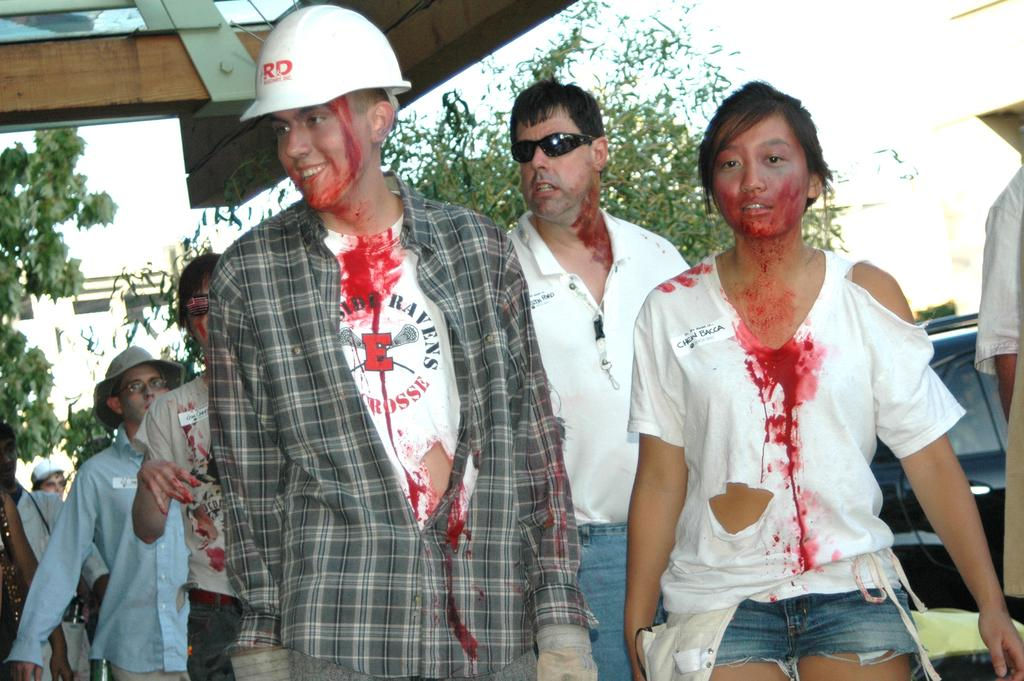Hat: (94, 342, 190, 430)
